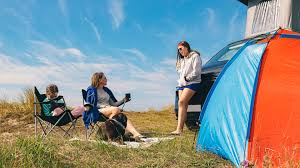person: (84, 71, 146, 145), (170, 38, 204, 136), (40, 82, 82, 123)
